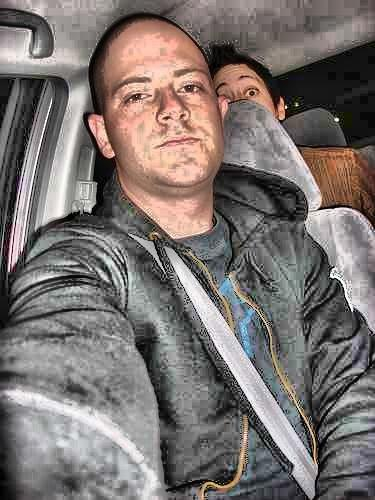seatbelt: (135, 210, 320, 474)
